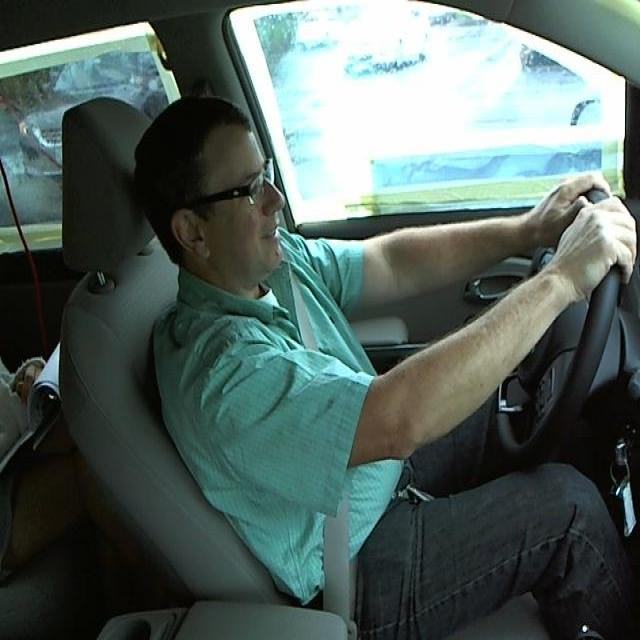using_phone: (75, 82, 339, 379)
